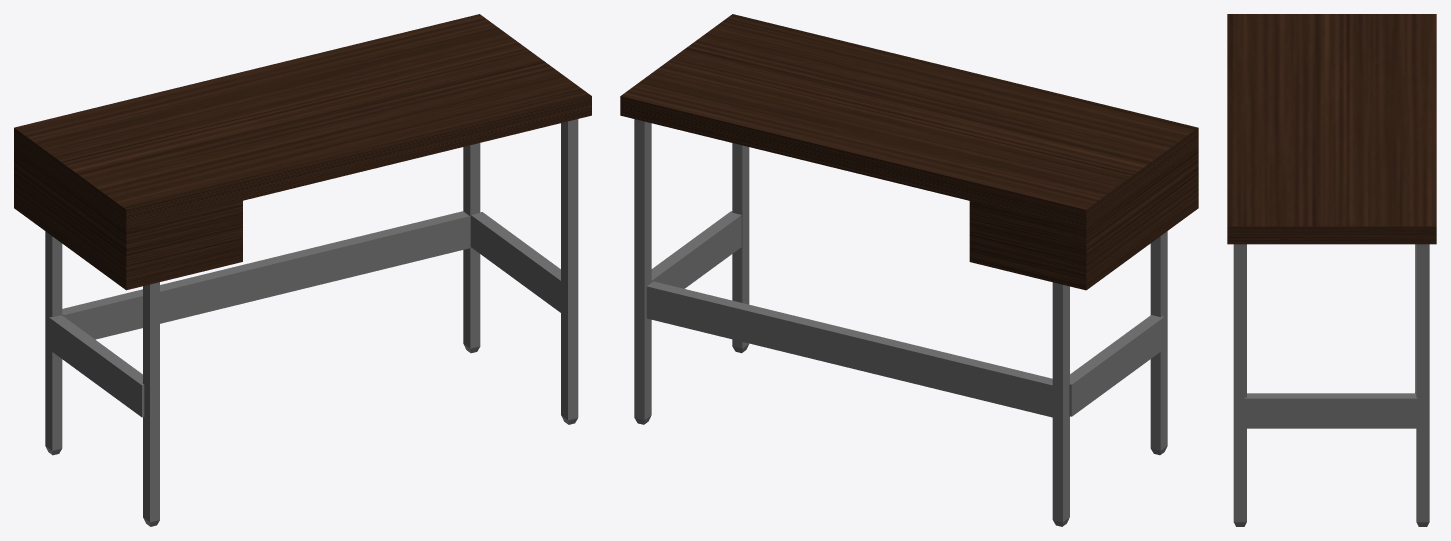
Rendered from desk.fbx.
3 views of the same model, side by side, from view 1: azimuth 30°, elevation 25°; view 2: azimuth 150°, elevation 25°; view 3: azimuth 270°, elevation 25° (orthographic). The views are drawn at different scales.
Parts seen in each view (by area): view 1: pCube1, pCube10, pCube2, pCube4, pCube8, pCube9, pCube6, pCube7, pCube5; view 2: pCube1, pCube10, pCube2, pCube5, pCube7, pCube8, pCube6, pCube9, pCube4; view 3: pCube1, pCube6, pCube5, pCube4, pCube10.
Part boxes in pixels (x1,y1,x2,y2): pCube1: (14, 14, 591, 228); pCube10: (62, 211, 469, 339); pCube2: (14, 147, 242, 290); pCube4: (561, 119, 578, 424); pCube8: (49, 315, 144, 417); pCube9: (143, 282, 159, 526); pCube6: (471, 212, 560, 312); pCube7: (45, 231, 62, 455); pCube5: (463, 143, 480, 353); pCube1: (620, 14, 1198, 229); pCube10: (646, 281, 1052, 417); pCube2: (969, 147, 1198, 290); pCube5: (634, 119, 651, 424); pCube7: (1052, 282, 1069, 526); pCube8: (1069, 315, 1164, 416); pCube6: (651, 211, 741, 288); pCube9: (1150, 231, 1167, 455); pCube4: (732, 143, 749, 353); pCube1: (1227, 14, 1436, 244); pCube6: (1244, 393, 1417, 428); pCube5: (1416, 244, 1429, 526); pCube4: (1233, 244, 1246, 526); pCube10: (1415, 244, 1416, 393).
Bounding box in the file's own units: 3.09 × 2.08 × 1.29.
